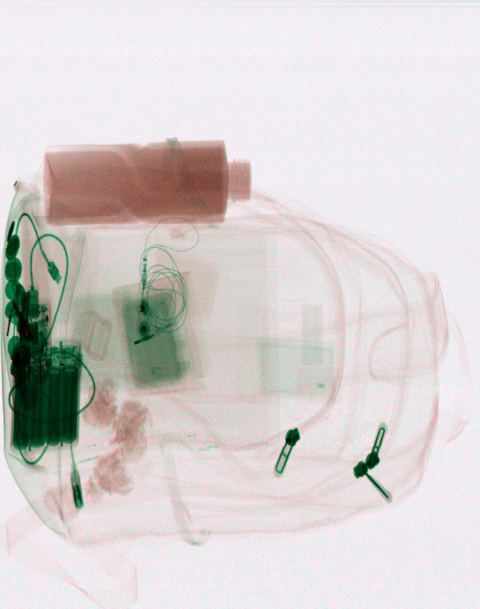Plastic Bottle: (44, 139, 253, 227)
